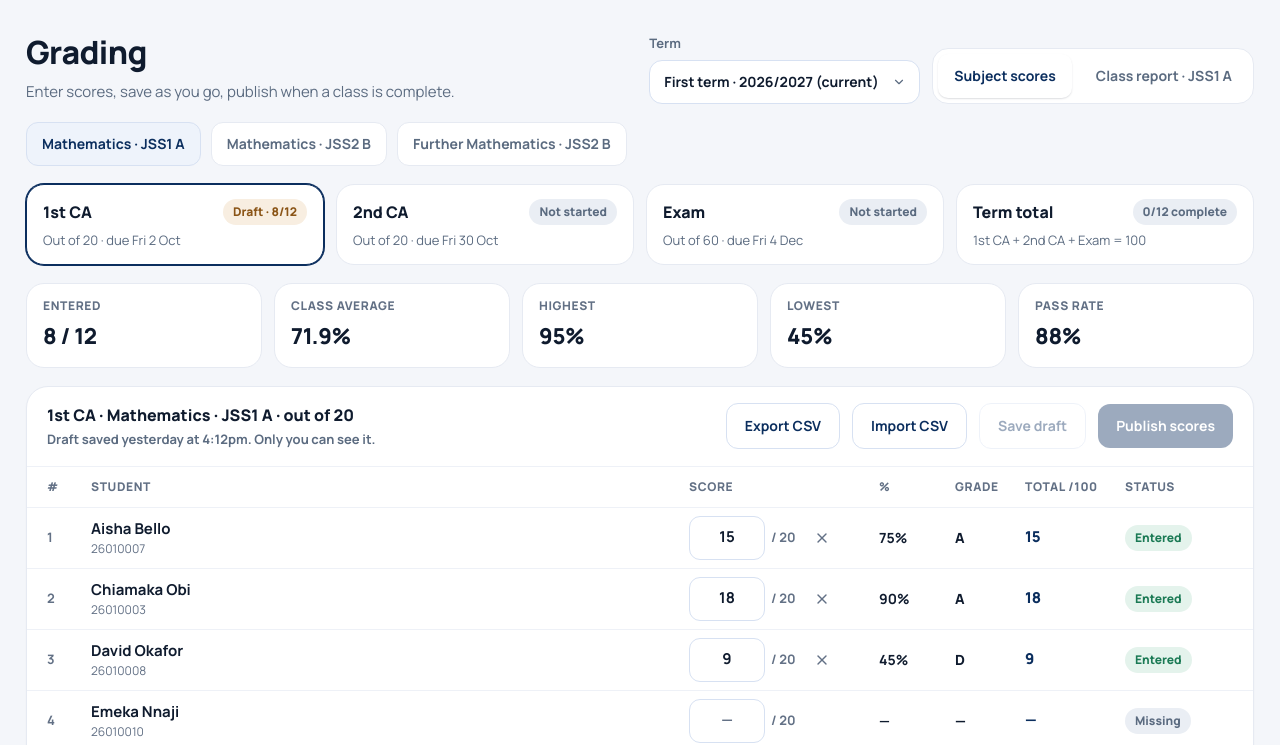
Scenario: Subject scores › strips non-numbers, flags a score above the maximum, and keeps Save and Publish off until they can work
The width and height of the screenshot is (1280, 745).
Expected: the heading "1st CA · Mathematics · JSS1 A · out of 20" is shown, [47,404,354,426]
Expected: the button "Save draft" is disabled, [979,403,1086,449]
Step 1. Type "2a5" into the field with placeholder "—" in the row of "Emeka Nnaji" → (727, 720), box [689,698,765,742]
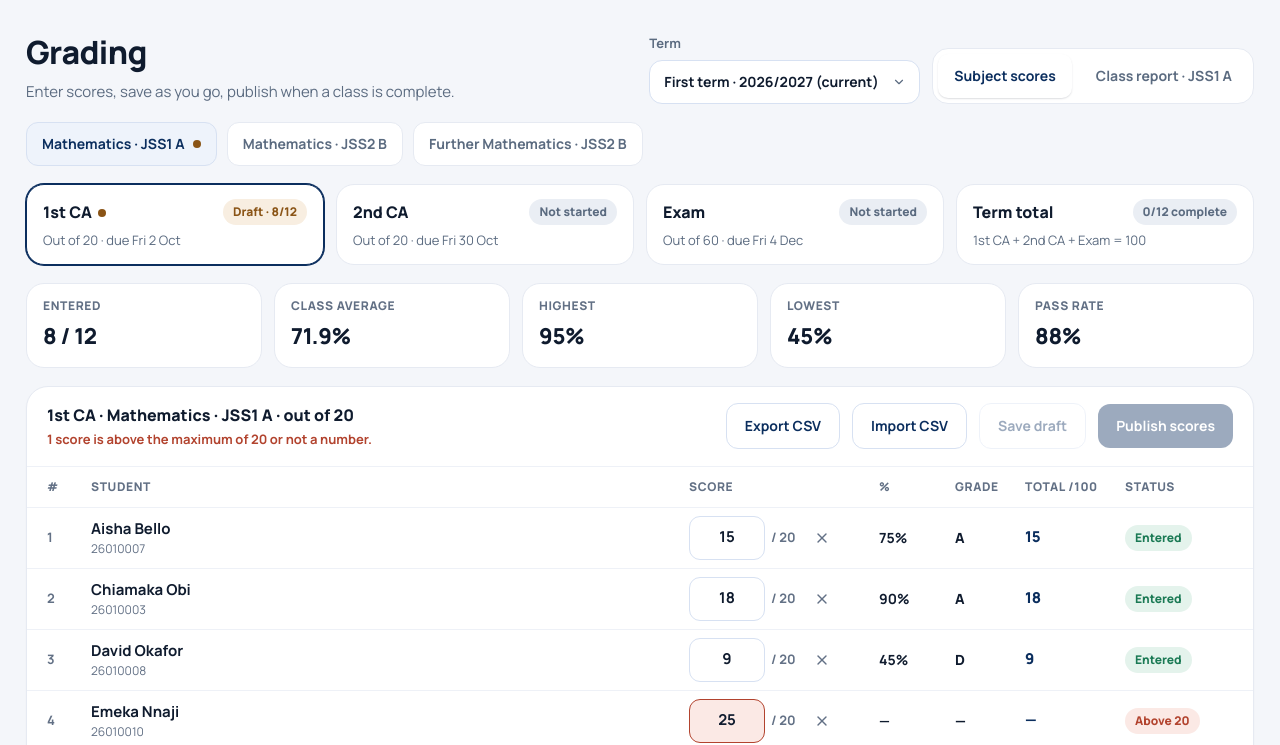
Expected: the button "Save draft" is disabled, [979,403,1086,449]
Result: the text "Above 20" is shown at [1125,708,1200,734]
Result: the text "1 score is above the maximum of 20 or not a number." is shown at [47,430,372,448]
Step 2. Replace the text in the field named "Score for Emeka Nnaji, 1st CA, out of 20" with "12" → (727, 720), box [689,698,765,742]
(page scrolled)
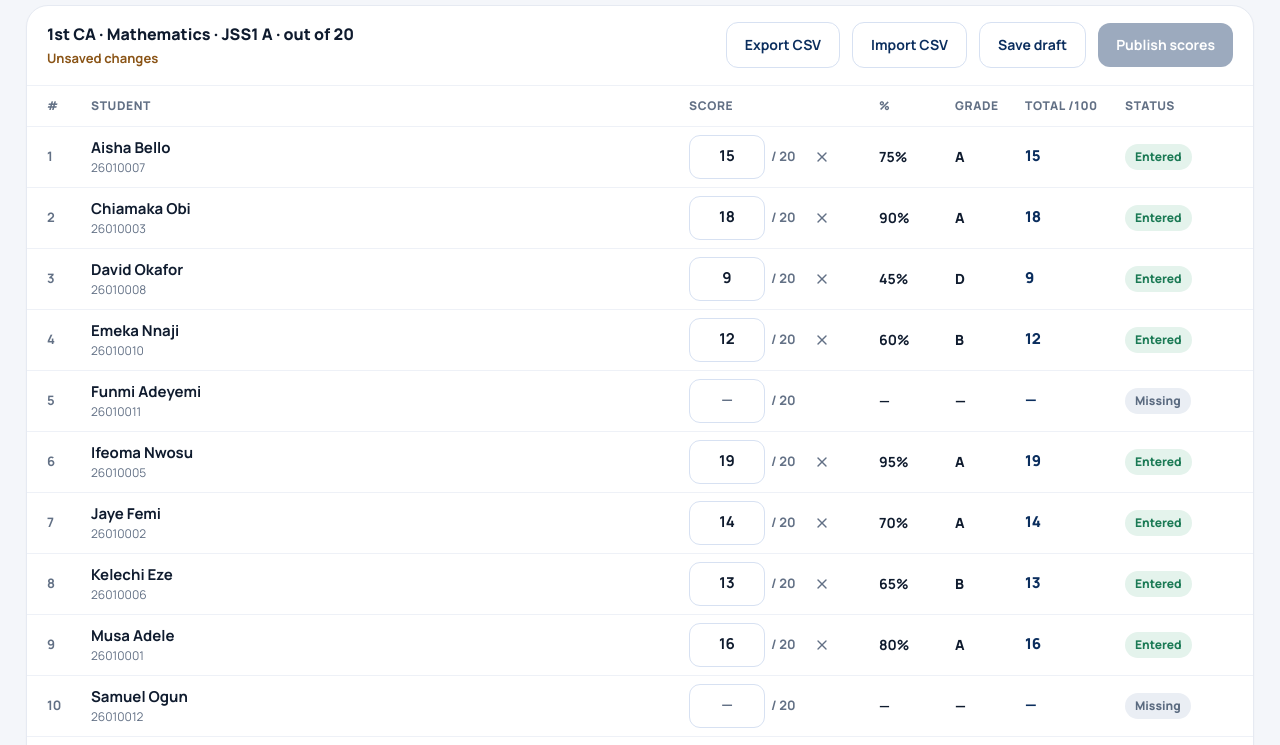
Expected: the button "Publish scores" is disabled, [1098,23,1233,67]
Result: the text "Unsaved changes" is shown at [47,49,158,67]
Result: the button "Save draft" is enabled at [979,22,1086,68]
Step 3. Type "10" into the field with placeholder "—" in the row of "Funmi Adeyemi" → (727, 400), box [689,378,765,422]
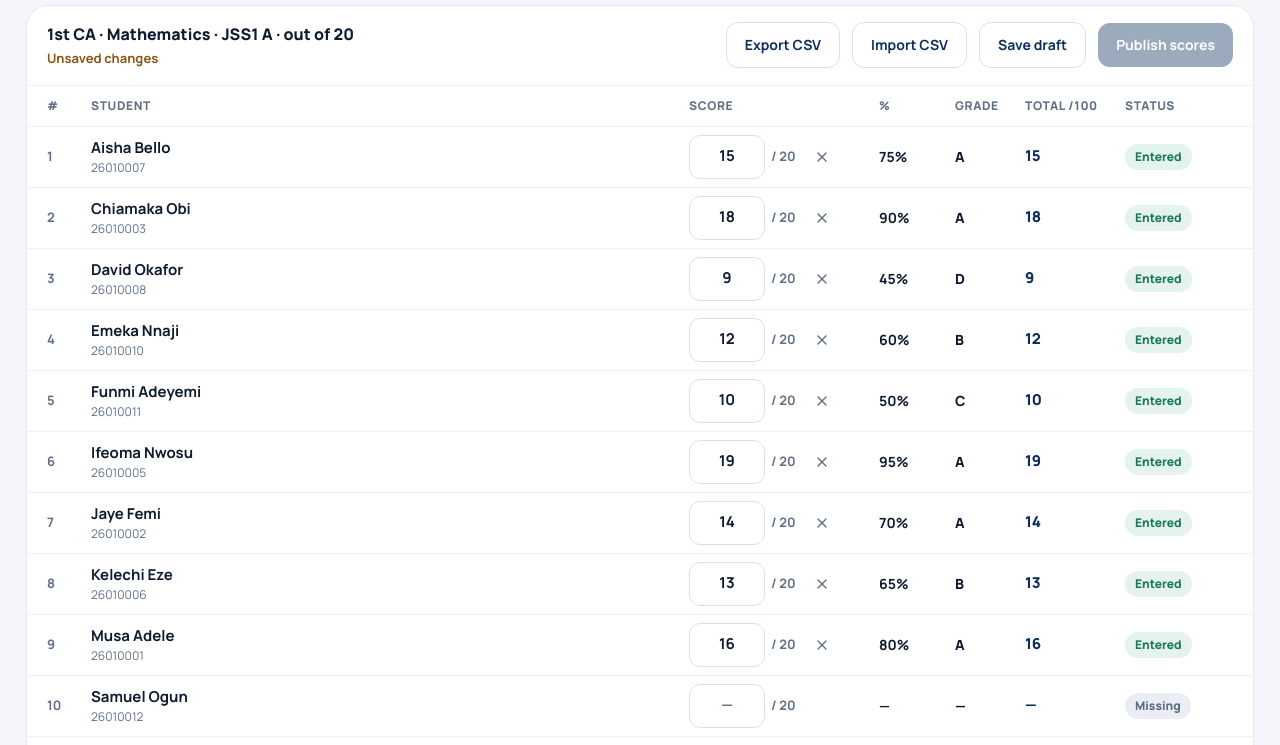
Step 4. Type "10" into the field with placeholder "—" → (727, 706), box [689,684,765,728]
(page scrolled)
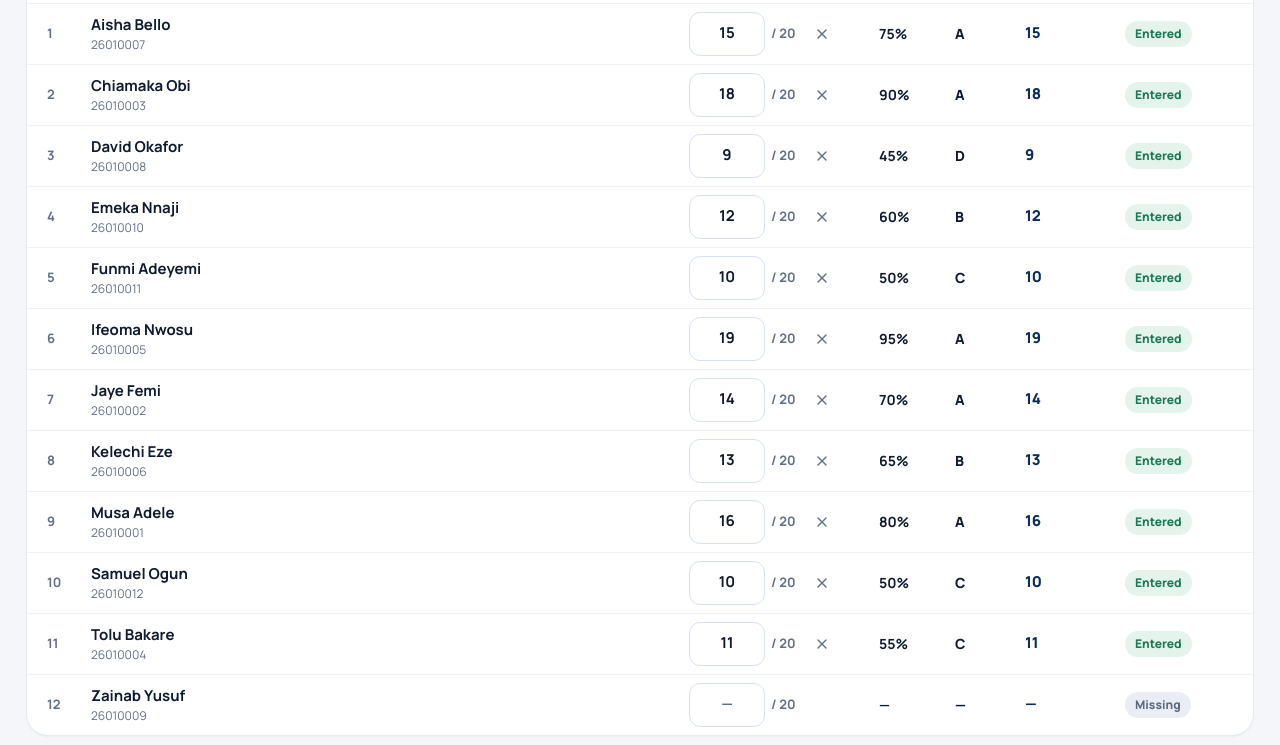
Step 5. Type "10" into the field with placeholder "—" → (727, 704), box [689,682,765,726]
(page scrolled)
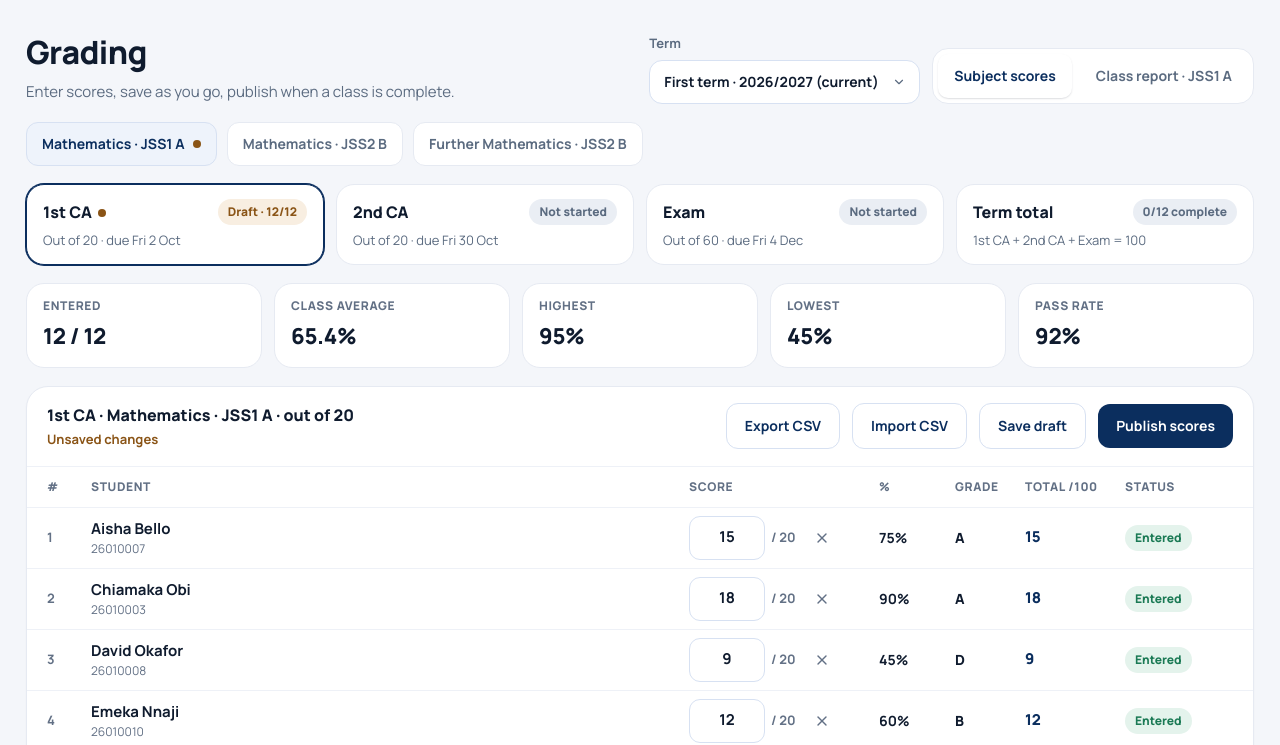
Result: the button "Publish scores" is enabled at [1098,404,1233,448]
Result: the text "12 / 12" is shown at [43,321,106,351]
